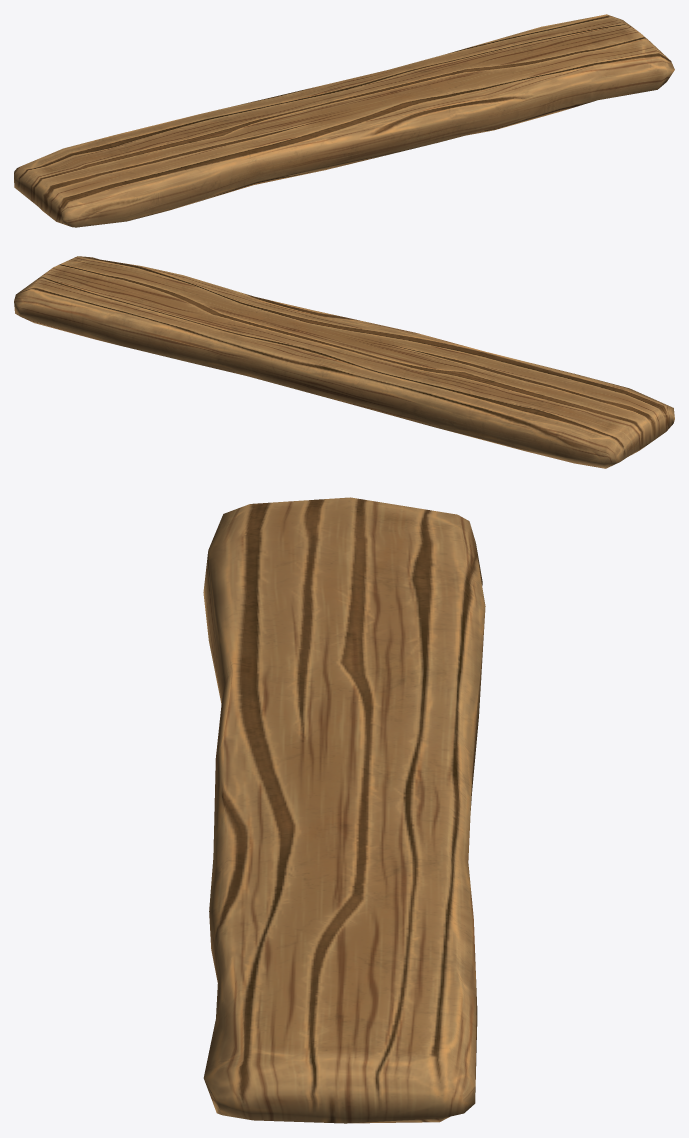
The model's file is SM_Planks_03.fbx.
3 renders of one model, top to bottom at view 1: azimuth 30°, elevation 25°; view 2: azimuth 150°, elevation 25°; view 3: azimuth 270°, elevation 25°, orthographic. The views are drawn at different scales.
Visible parts, largest first — view 1: SM_Planks_03; view 2: SM_Planks_03; view 3: SM_Planks_03.
Part boxes in pixels (bbox=[...]): SM_Planks_03: bbox=[14, 14, 674, 227]; SM_Planks_03: bbox=[14, 256, 674, 468]; SM_Planks_03: bbox=[203, 497, 485, 1123].
Bounding box in the file's own units: 597 × 37.46 × 120.
1 material, 1 textured.
